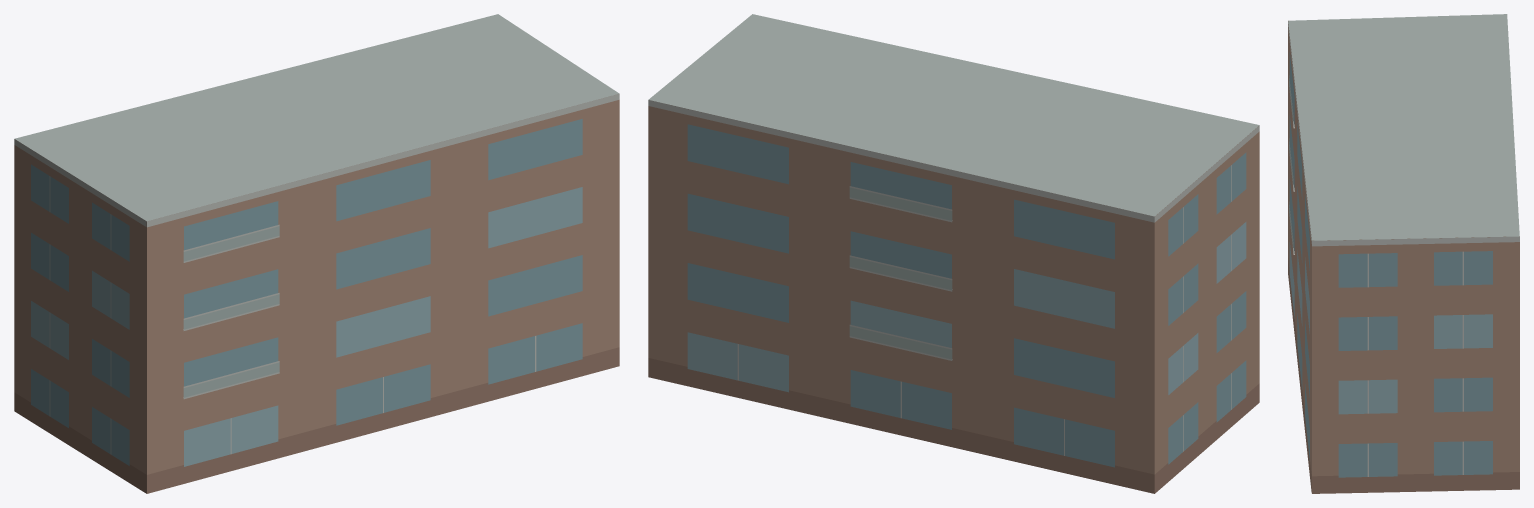
File: survey-upis-32604566.glb
3 views of the same model, side by side, from view 1: azimuth 30°, elevation 25°; view 2: azimuth 150°, elevation 25°; view 3: azimuth 270°, elevation 25° (orthographic). The views are drawn at different scales.
Visible parts, largest first — view 1: survey-upis-32604566.tmp; view 2: survey-upis-32604566.tmp; view 3: survey-upis-32604566.tmp.
Boxes of the visible parts, x1,y1,x2,y2 form: survey-upis-32604566.tmp: [14, 14, 619, 493]; survey-upis-32604566.tmp: [648, 14, 1259, 493]; survey-upis-32604566.tmp: [1288, 14, 1519, 493].
Size of the model in its own units: 21.2 by 11.03 by 9.16.
